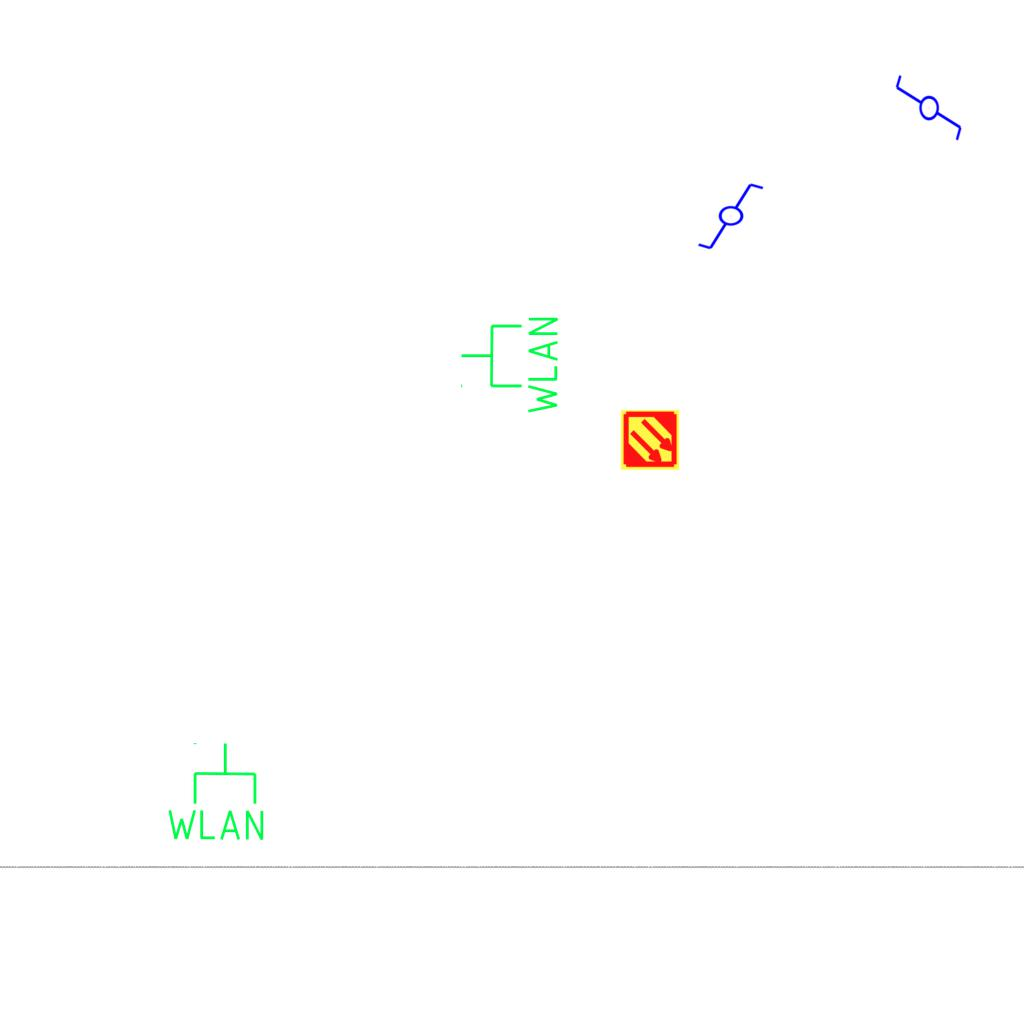ASR_Ansaugrauchmelder: (619, 409, 681, 471)
WLAN: (163, 740, 268, 844), (458, 313, 562, 418)
Wechselschalter: (696, 181, 774, 253), (892, 73, 964, 151)
